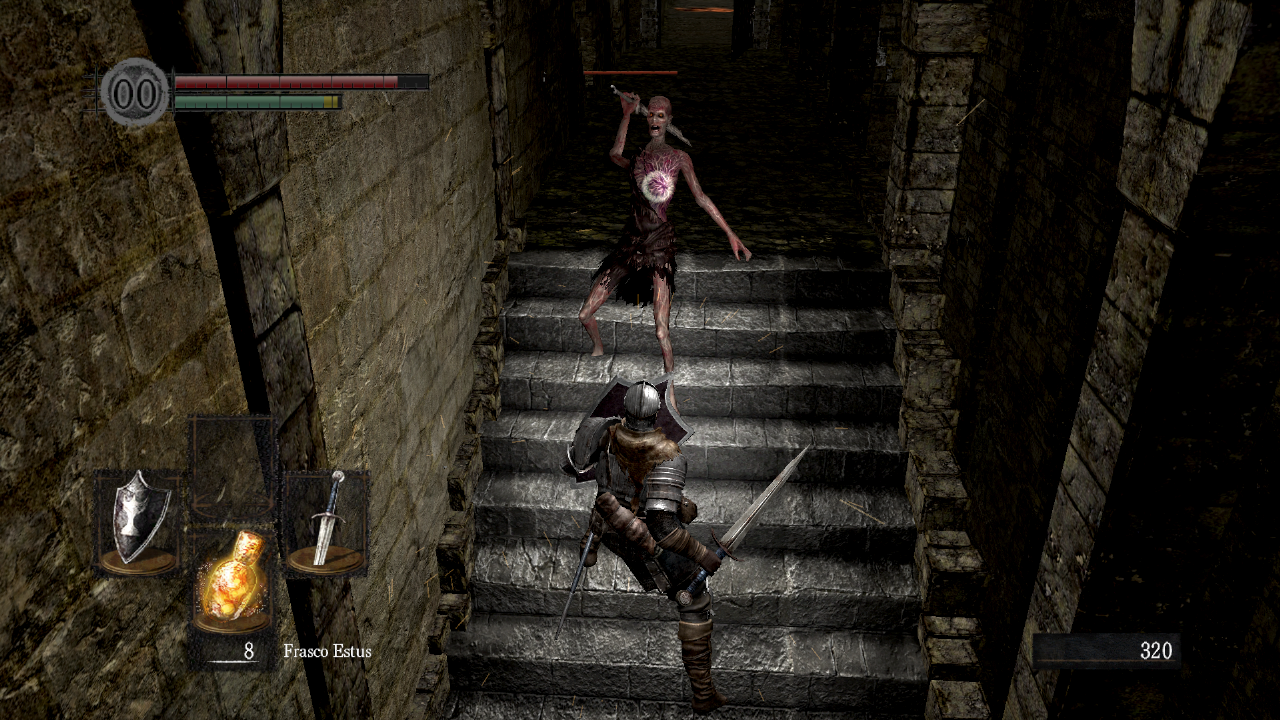hollow: (579, 84, 753, 373)
player: (555, 375, 812, 716)
